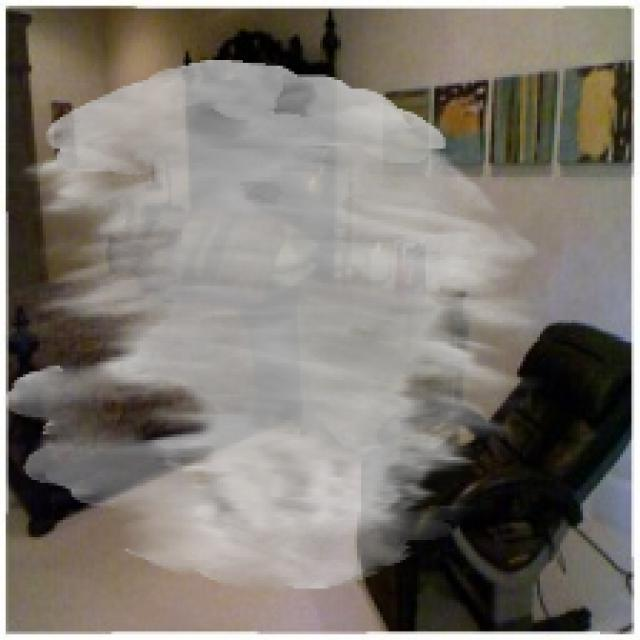smoke: (3, 60, 546, 591)
